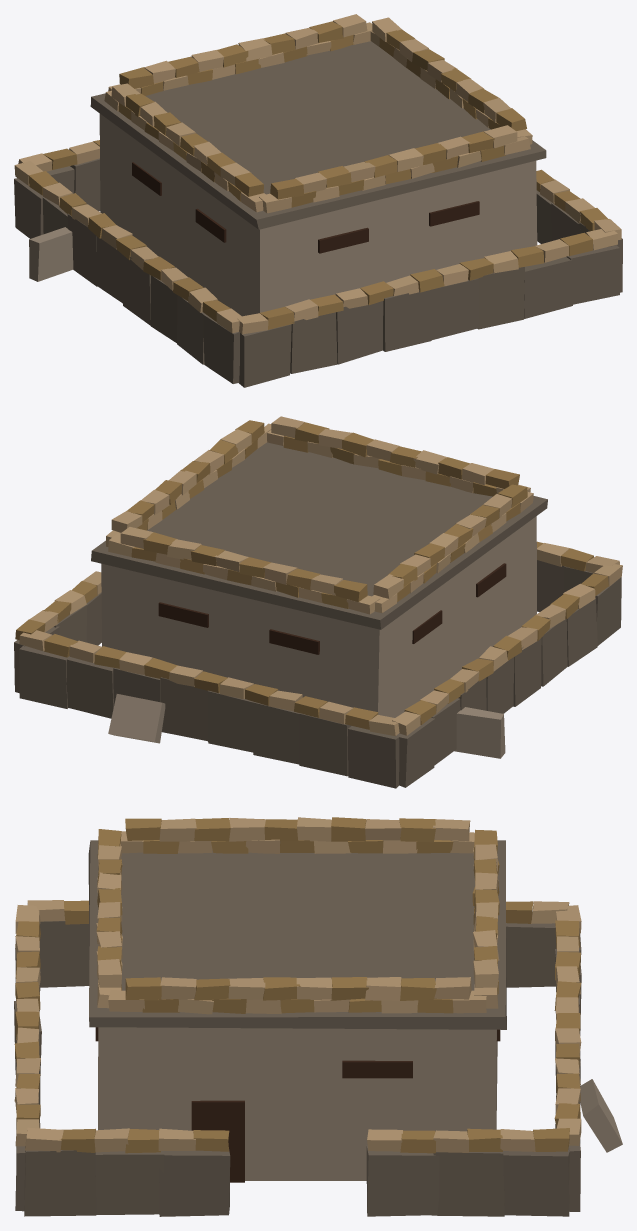
File: bunker.glb
3 views of the same model, one above another, from view 1: azimuth 30°, elevation 25°; view 2: azimuth 150°, elevation 25°; view 3: azimuth 270°, elevation 25° (orthographic). The views are drawn at different scales.
Visible parts, largest first — view 1: bunker; view 2: bunker; view 3: bunker.
Boxes of the visible parts, x1,y1,x2,y2 form: bunker: [14, 14, 622, 387]; bunker: [14, 416, 622, 788]; bunker: [14, 817, 622, 1216].
Size of the model in its own units: 14.07 by 5.02 by 13.75.
